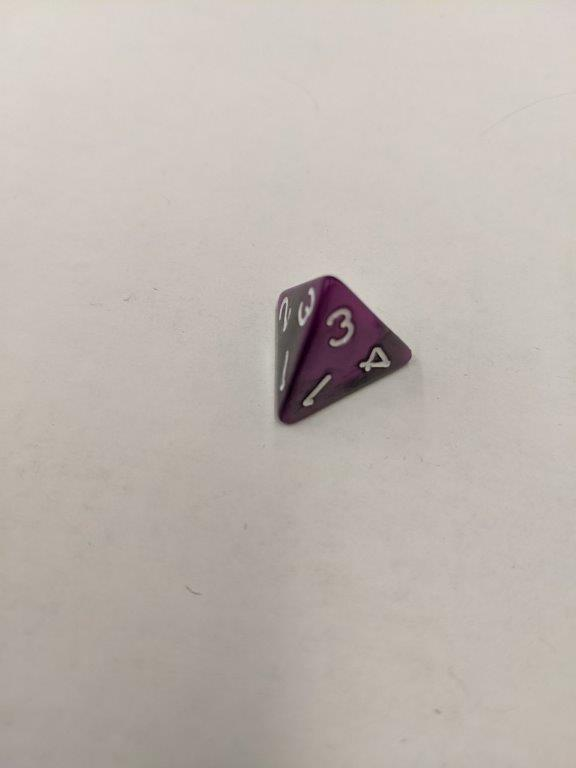d4-3: (272, 274, 414, 429)
